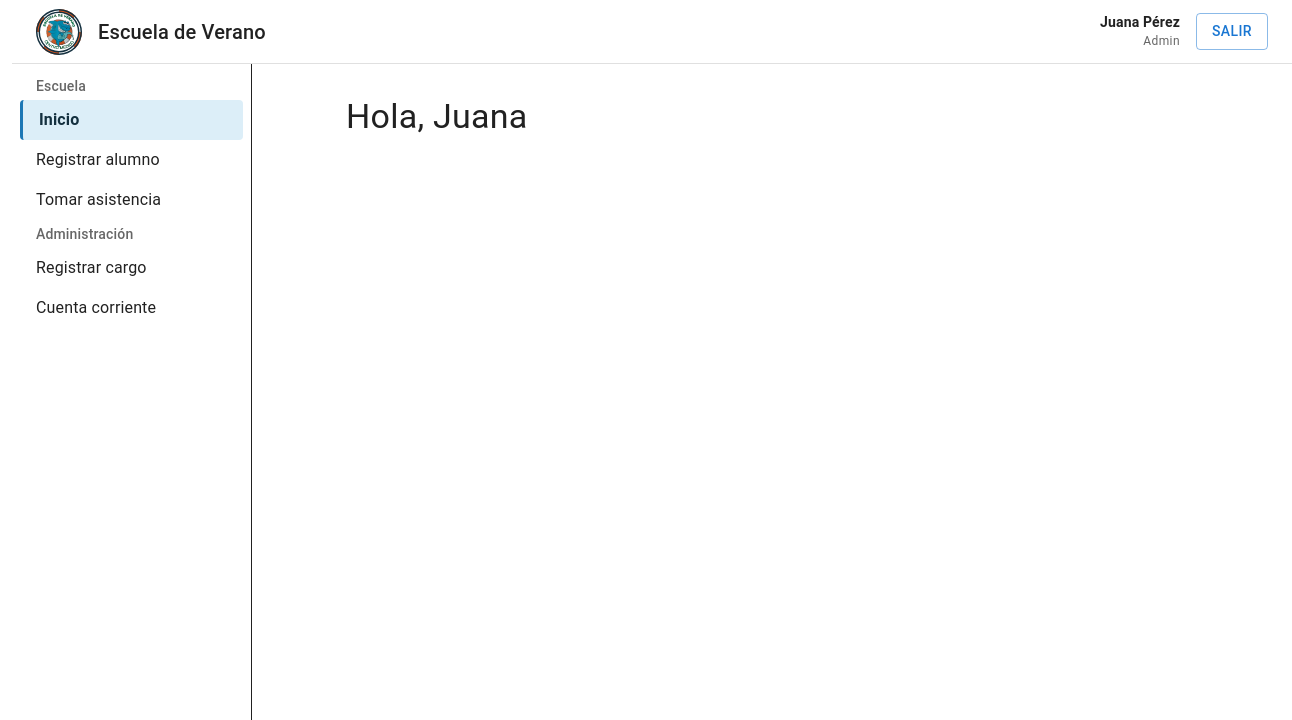
Scenario: Inicio de la zona protegida › Ir a la cuenta corriente
The image size is (1292, 720).
Check: the text "Juana Pérez" is shown, box [1100, 12, 1180, 32]
Click the link "Cuenta corriente". click: (96,308)
box: [36, 298, 156, 317]
(page scrolled)
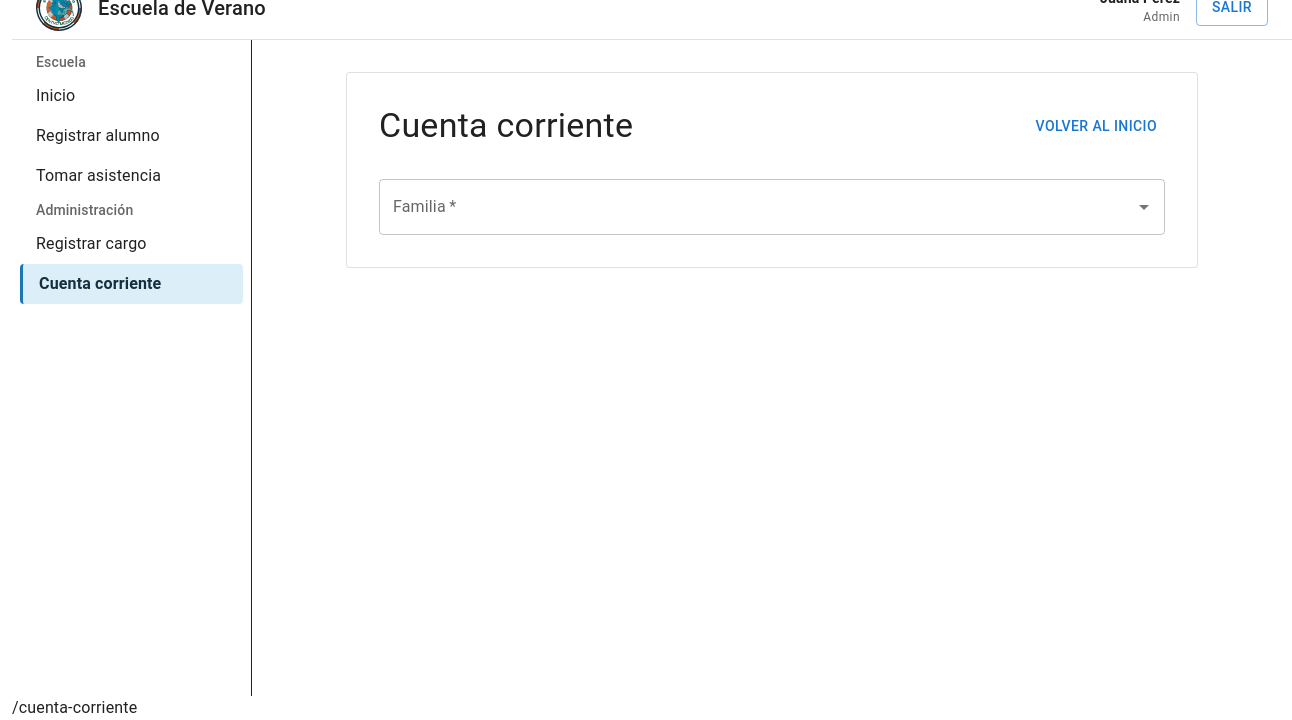
Check: the text named "dirección actual" reads "/cuenta-corriente", box [12, 698, 137, 717]
